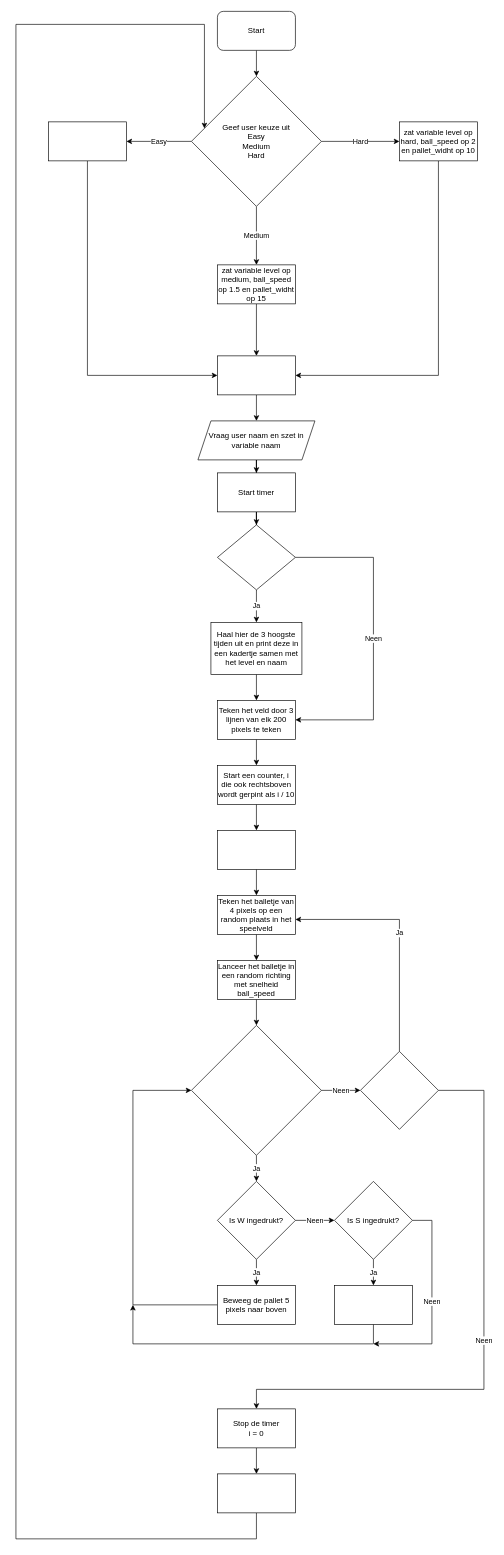
Image size: 504x1555. Some labels were removed from this diagram. Each missing label, with the centre of its shape:
Beweeg de pallet 5 pixels naar onder: point (373, 1304)
i ++ Is i kleiner dan 10?: point (399, 1090)
Is er een file scores.txt met min 3 regels?: point (256, 557)
Is het balletje nog in het speelveld?: point (256, 1090)
Print Level: level Time:: point (256, 375)
Schrijf, tijd naam en level weg in een nieuwe regel in scores.txt: point (256, 1493)
Teken de pallet van pallet_widht lang: point (256, 849)
zat variable level op easy, ball_speed op 1 en pallet_widht op 20: point (87, 141)
